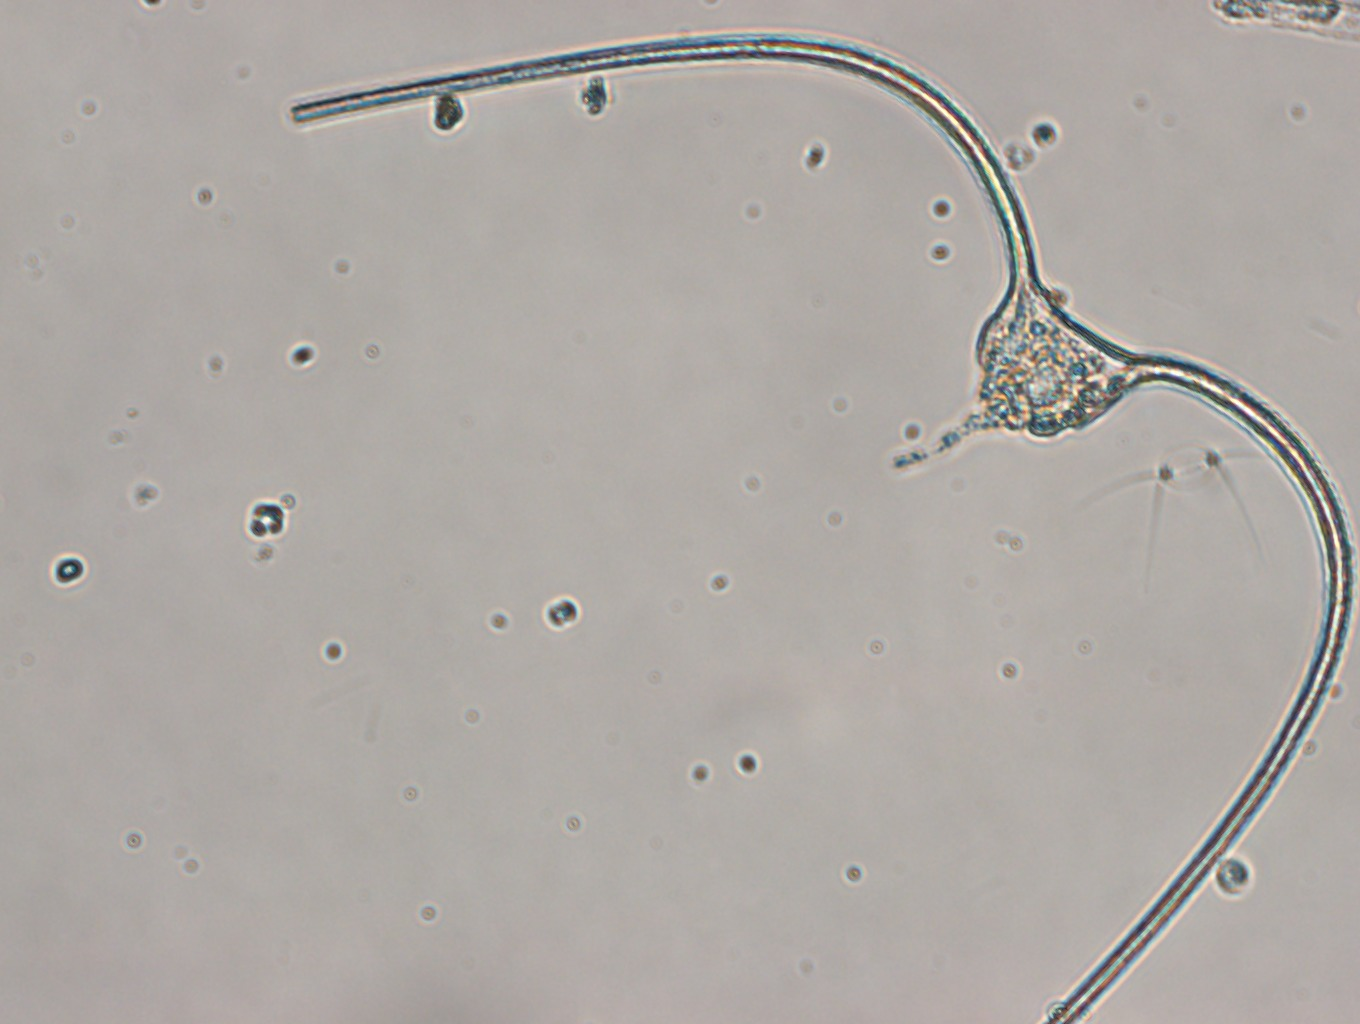ceratium trichoceros: (289, 28, 1355, 1024)
